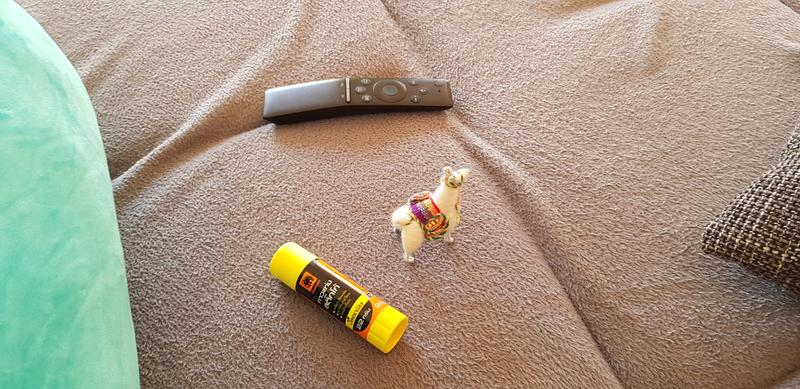Glue-Stick: (266, 239, 412, 366)
Horse-Toy: (389, 155, 485, 264)
